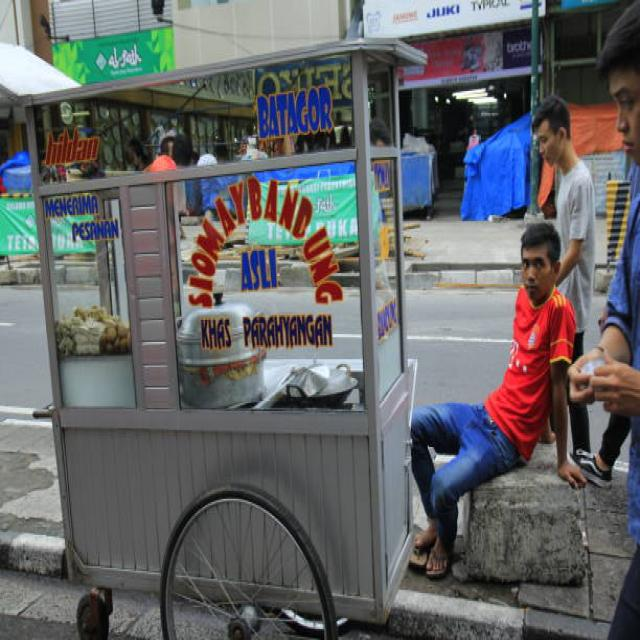Emperan: (0, 23, 447, 640)
